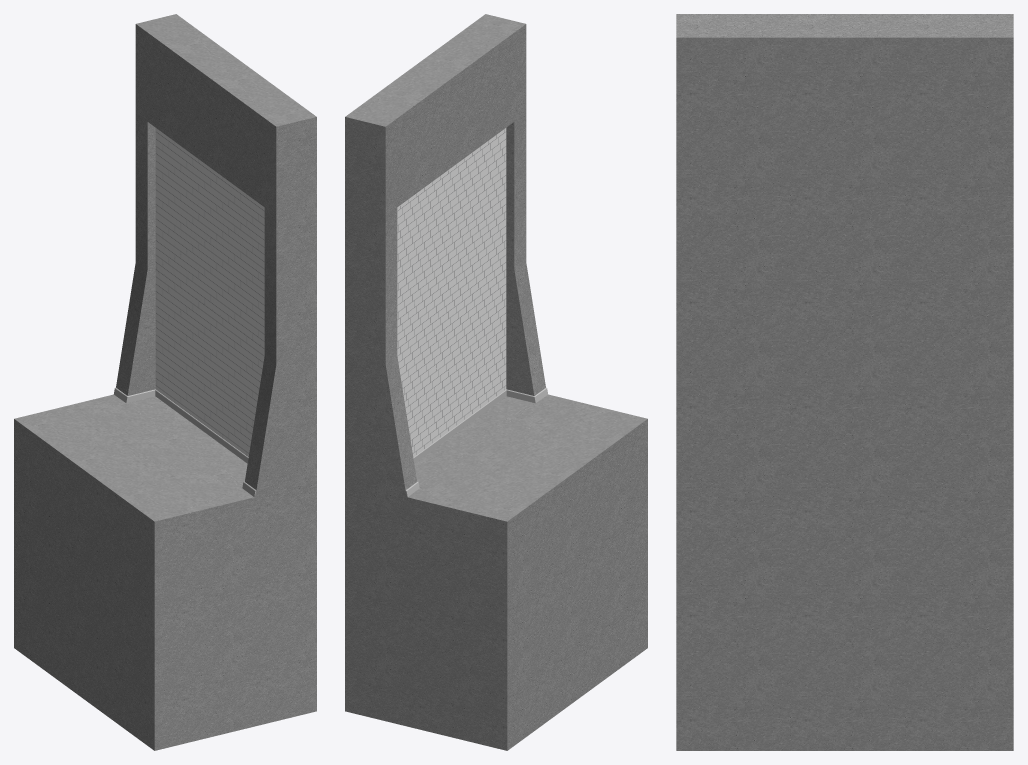
Rendered from SM_Wall_b.fbx.
The picture shows the model from 3 angles, left to right: view 1: azimuth 30°, elevation 25°; view 2: azimuth 150°, elevation 25°; view 3: azimuth 270°, elevation 25°; orthographic projection. The views are drawn at different scales.
Parts seen in each view (by area): view 1: SM_Wall_b_LOD0; view 2: SM_Wall_b_LOD0; view 3: SM_Wall_b_LOD0.
Boxes of the visible parts, x1=… form: SM_Wall_b_LOD0: x1=14, y1=14, x2=316, y2=750; SM_Wall_b_LOD0: x1=345, y1=14, x2=647, y2=750; SM_Wall_b_LOD0: x1=676, y1=14, x2=1013, y2=750.
Size of the model in its own units: 400 by 600 by 1400.
Materials: 4 (3 with a texture image).
